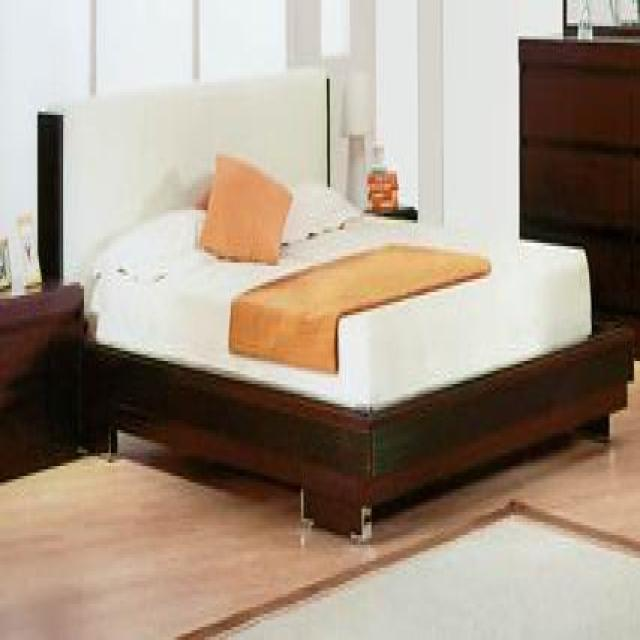bed: (38, 62, 636, 545)
